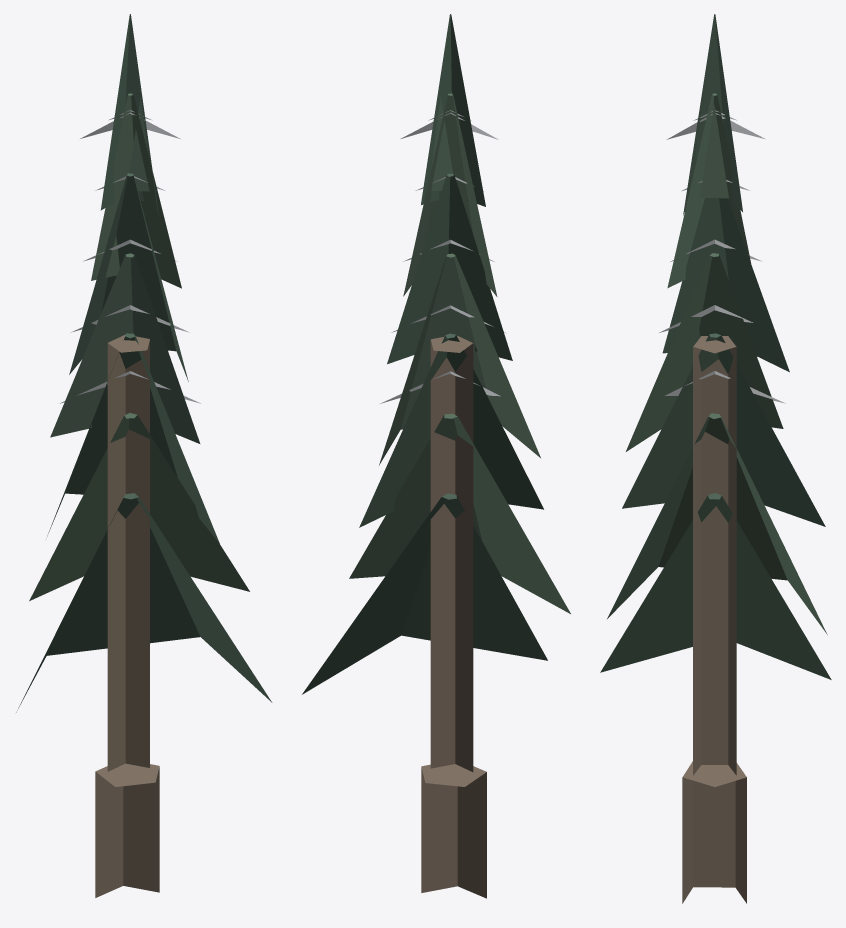
Rendered from tree.cold.spruce__winter.glb.
The picture shows the model from 3 angles, left to right: view 1: azimuth 30°, elevation 25°; view 2: azimuth 150°, elevation 25°; view 3: azimuth 270°, elevation 25°; orthographic projection.
Visible parts, largest first — view 1: tree.cold.spruce__winter; view 2: tree.cold.spruce__winter; view 3: tree.cold.spruce__winter.
Part boxes in pixels (x1,y1,x2,y2): tree.cold.spruce__winter: (16,14,272,897); tree.cold.spruce__winter: (302,14,570,898); tree.cold.spruce__winter: (600,14,831,903).
Bounding box in the file's own units: 4.4 × 16.76 × 3.98.
